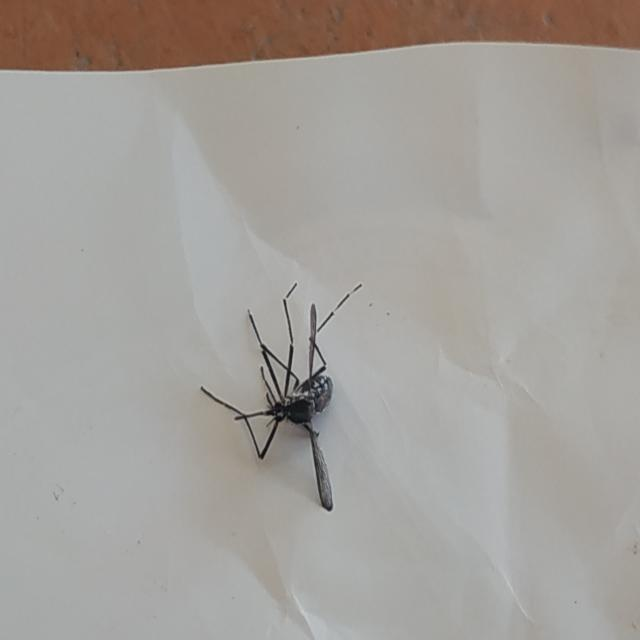albopictus: (188, 271, 361, 508)
